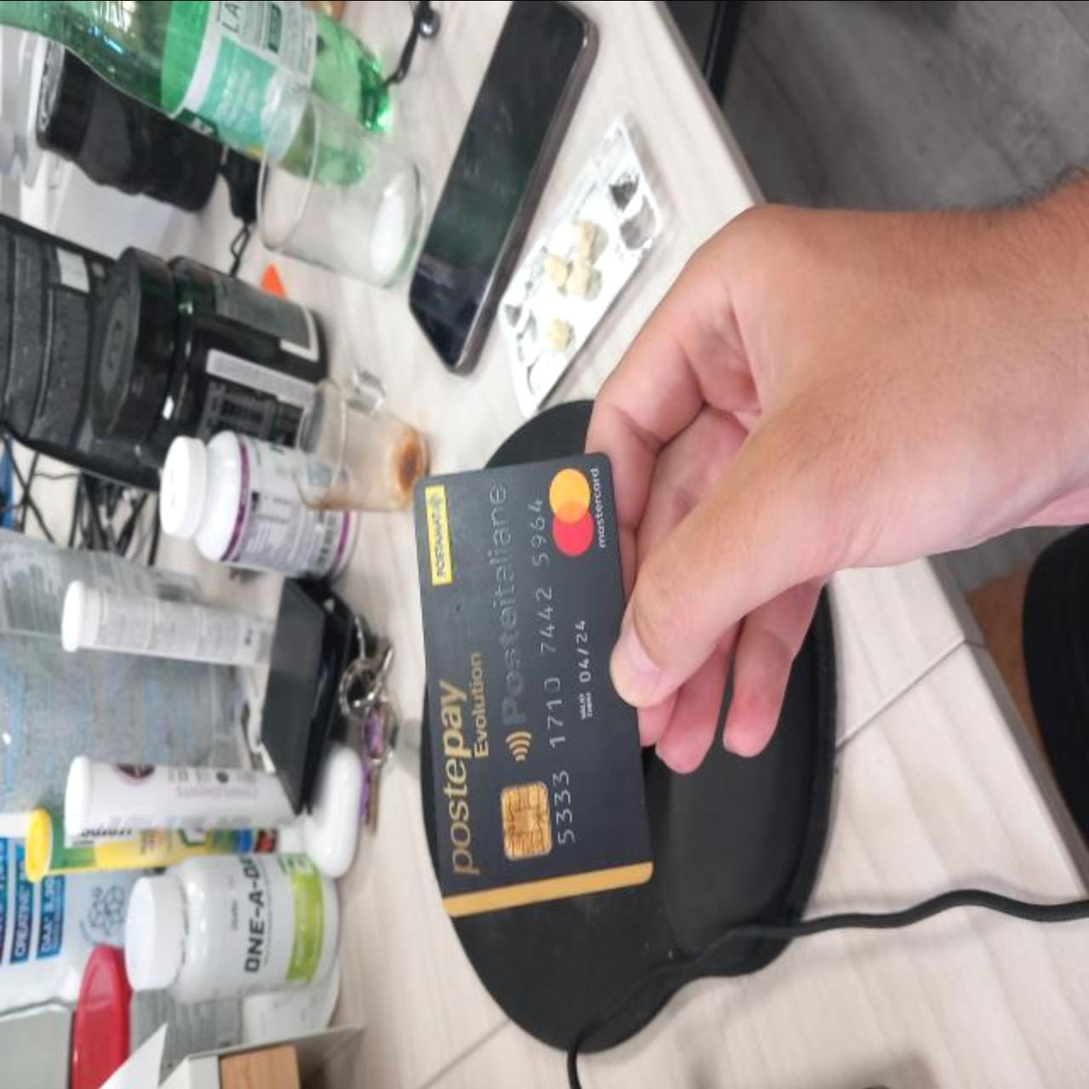credit_card: (412, 439, 653, 912)
